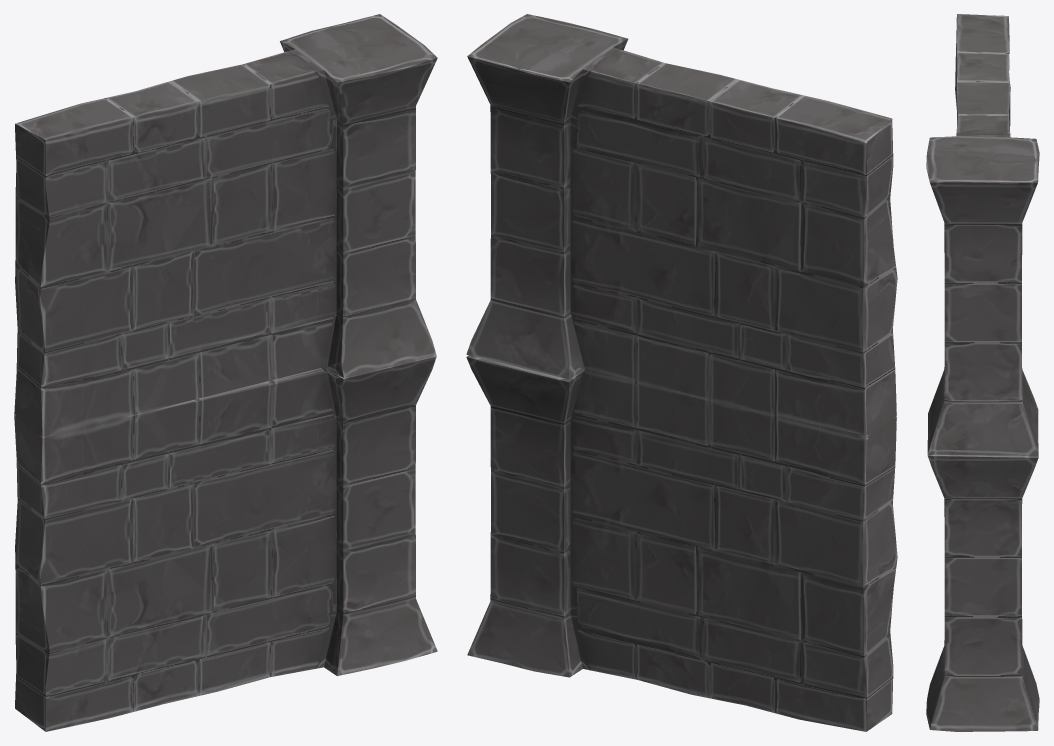
The model's file is slave_king_wall_2.fbx.
3 renders of one model, left to right at view 1: azimuth 30°, elevation 25°; view 2: azimuth 150°, elevation 25°; view 3: azimuth 270°, elevation 25°, orthographic. The views are drawn at different scales.
Visible parts, largest first — view 1: wall_2_retopo.001; view 2: wall_2_retopo.001; view 3: wall_2_retopo.001.
Part boxes in pixels (bbox=[...]): wall_2_retopo.001: bbox=[14, 14, 437, 731]; wall_2_retopo.001: bbox=[466, 14, 897, 731]; wall_2_retopo.001: bbox=[926, 14, 1039, 731].
Bounding box in the file's own units: 1065 × 1584 × 295.
